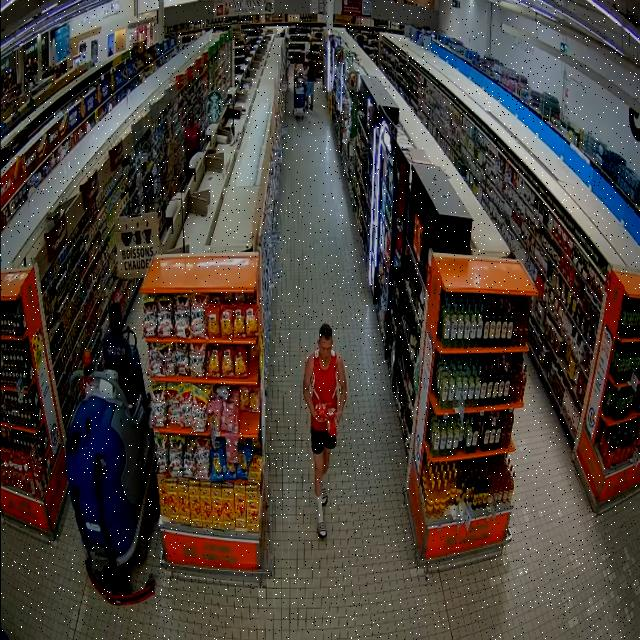article: (314, 400, 333, 414), (327, 417, 338, 436), (316, 410, 329, 421), (328, 407, 336, 416)
hands: (312, 409, 324, 422), (335, 411, 342, 427)
person: (304, 324, 347, 538), (103, 302, 137, 404), (185, 111, 199, 176), (306, 57, 316, 110)
